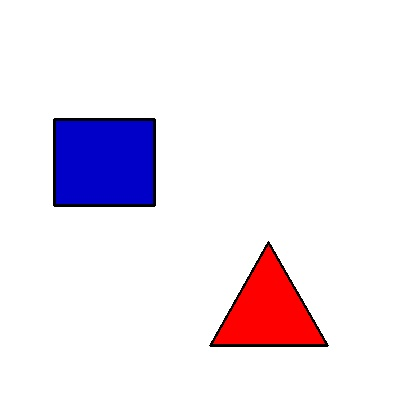rectangle: (54, 119, 154, 205)
triangle: (210, 242, 327, 345)
